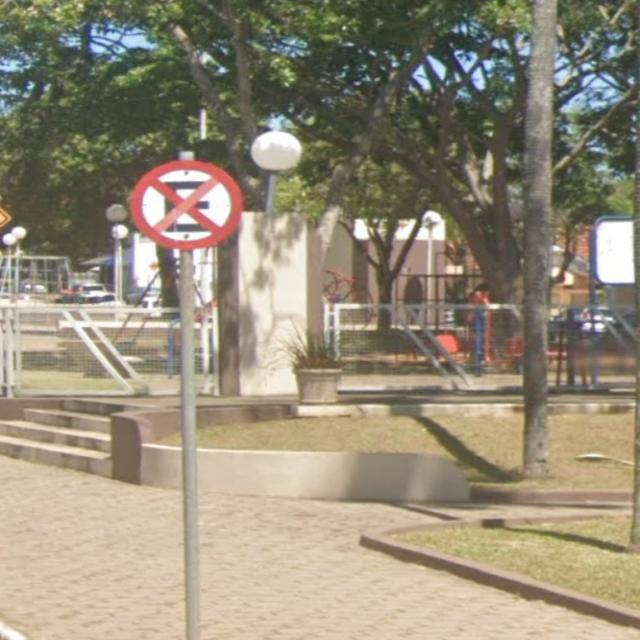no parking: (101, 120, 251, 260)
